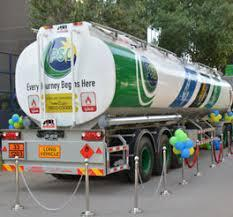Truck: (0, 20, 233, 181)
